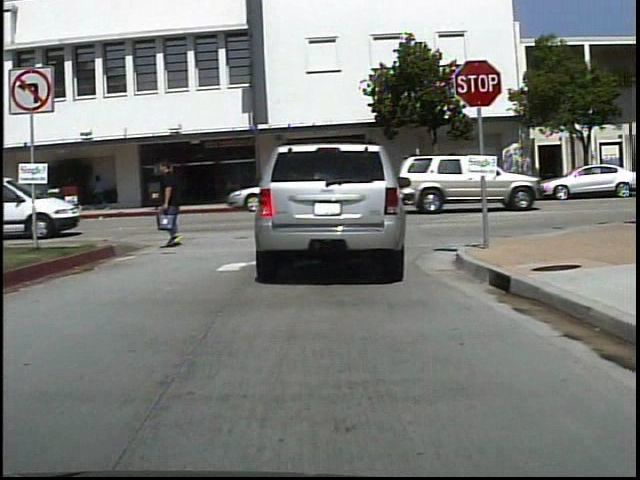person: (148, 160, 198, 253), (69, 171, 93, 216), (90, 173, 112, 211)
